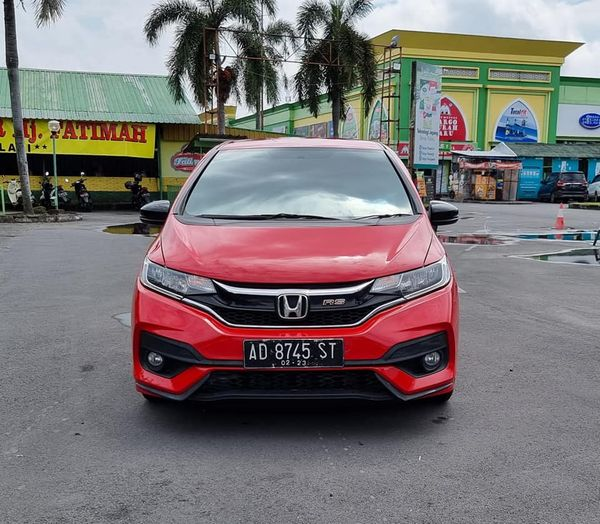plate: (243, 340, 346, 370)
